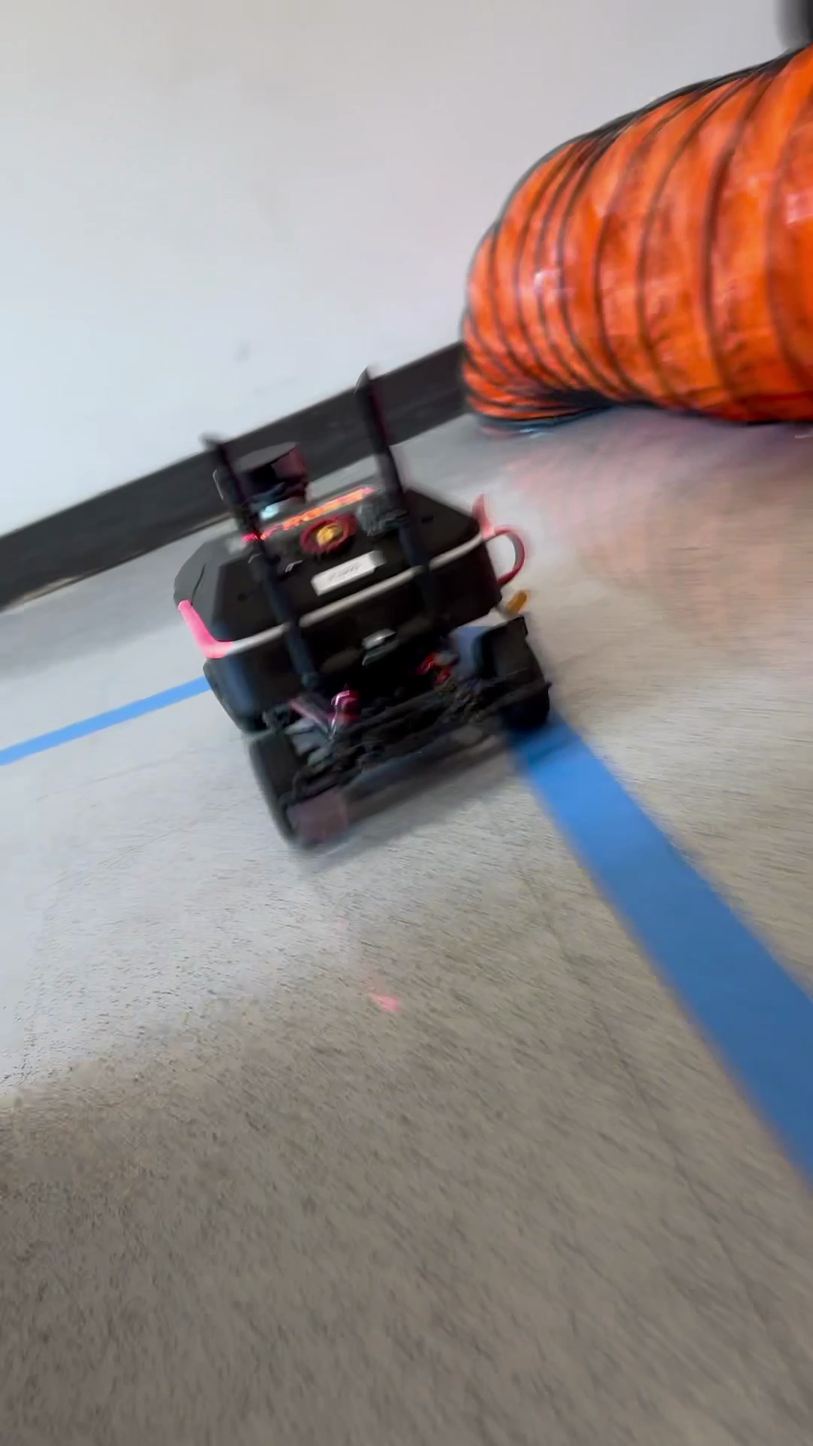racecar: (175, 368, 559, 849)
